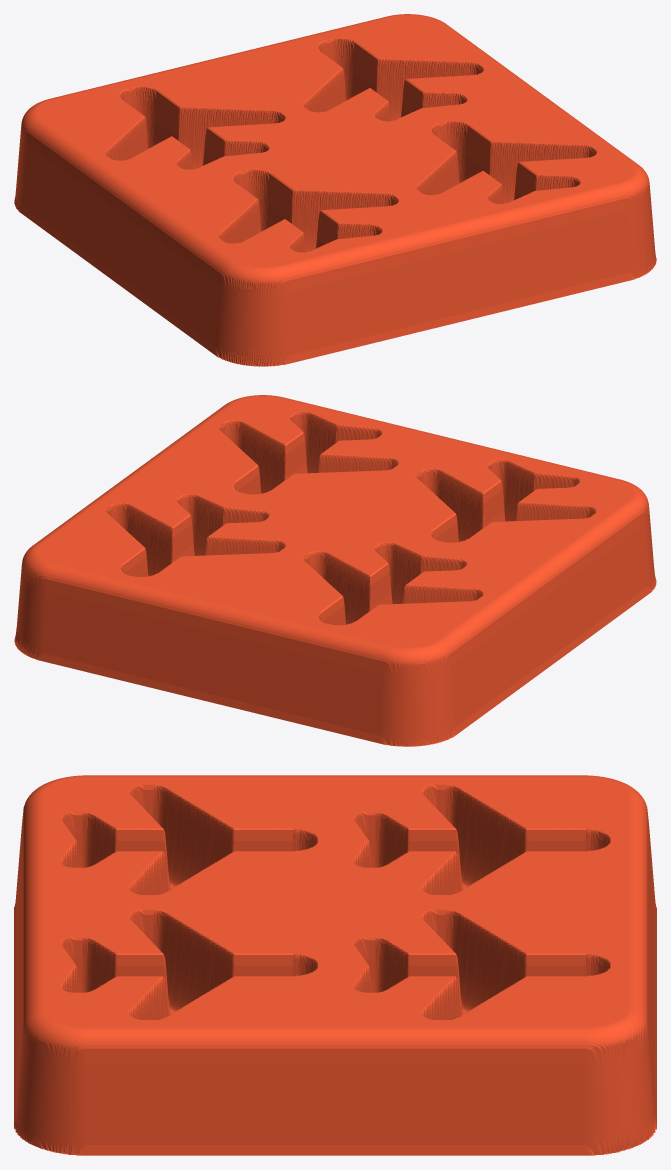
Rendered from mold.glb.
3 renders of one model, top to bottom at view 1: azimuth 30°, elevation 25°; view 2: azimuth 150°, elevation 25°; view 3: azimuth 270°, elevation 25°, orthographic. The views are drawn at different scales.
Parts seen in each view (by area): view 1: geometry_0; view 2: geometry_0; view 3: geometry_0.
Part boxes in pixels (left/top/right/bottom): geometry_0: left=14, top=14, right=656, bottom=366; geometry_0: left=14, top=395, right=656, bottom=746; geometry_0: left=14, top=775, right=656, bottom=1155.
Bounding box in the file's own units: 0.0808 × 0.0159 × 0.08.
